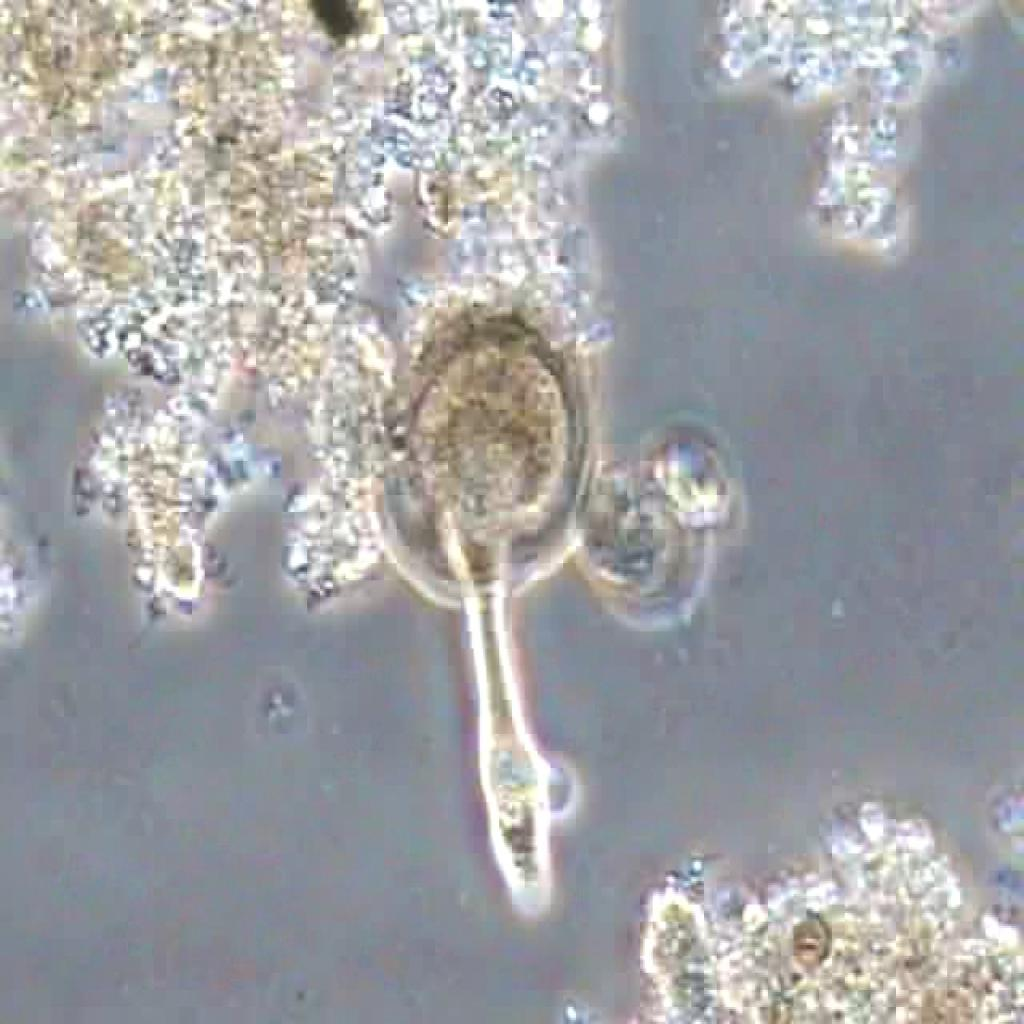Arcella: (359, 273, 606, 926)
